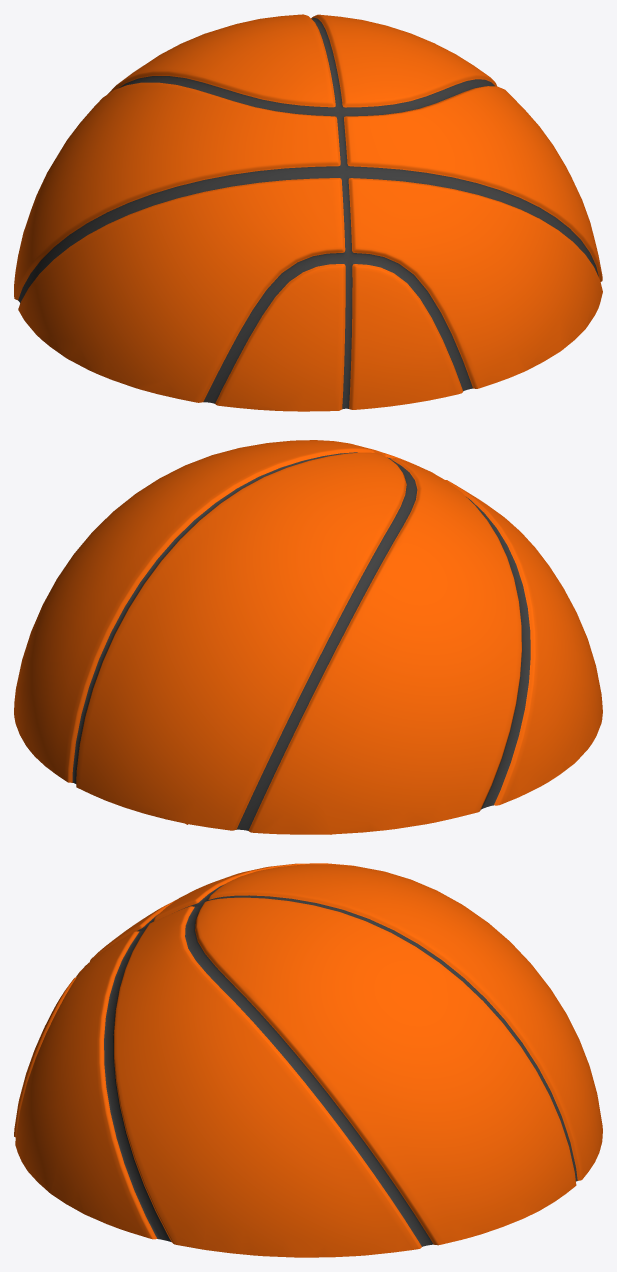
File: Cake_ThemeToys_B.FBX
3 views of the same model, one above another, from view 1: azimuth 30°, elevation 25°; view 2: azimuth 150°, elevation 25°; view 3: azimuth 270°, elevation 25° (orthographic).
Visible parts, largest first — view 1: Cake_ThemeToys_B; view 2: Cake_ThemeToys_B; view 3: Cake_ThemeToys_B.
Part boxes in pixels (<box>): Cake_ThemeToys_B: <box>14,14,602,411</box>; Cake_ThemeToys_B: <box>14,440,602,834</box>; Cake_ThemeToys_B: <box>14,863,602,1257</box>.
Bounding box in the file's own units: 84309 × 38566 × 84504.
